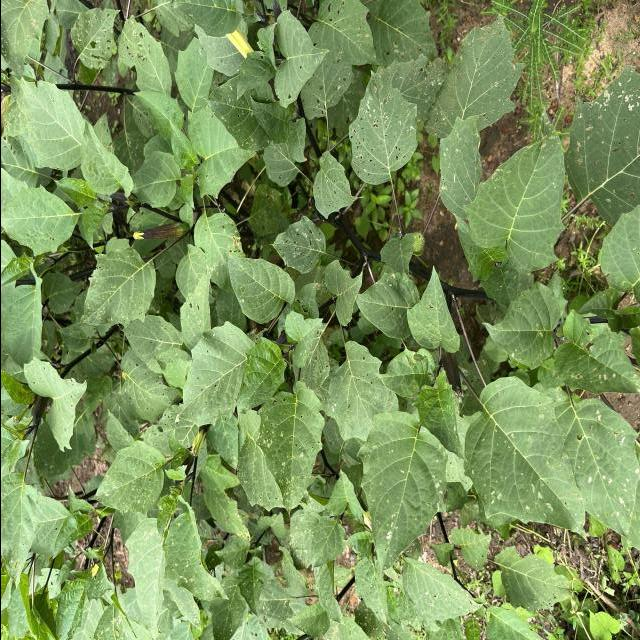Datura metal linn: (461, 374, 588, 542), (460, 104, 566, 276), (354, 410, 448, 574), (254, 380, 325, 515), (172, 320, 254, 430), (346, 68, 418, 187), (479, 279, 562, 371), (160, 493, 230, 602), (75, 245, 156, 328), (18, 75, 84, 174), (22, 354, 87, 454), (272, 8, 331, 110), (88, 439, 166, 516), (224, 247, 296, 325), (410, 369, 468, 463), (232, 335, 286, 428), (404, 264, 459, 354), (78, 117, 134, 200), (311, 149, 364, 221), (268, 214, 326, 276), (322, 258, 364, 328), (131, 89, 185, 141), (282, 310, 324, 370), (248, 94, 292, 146), (234, 49, 273, 102), (168, 120, 200, 172)
